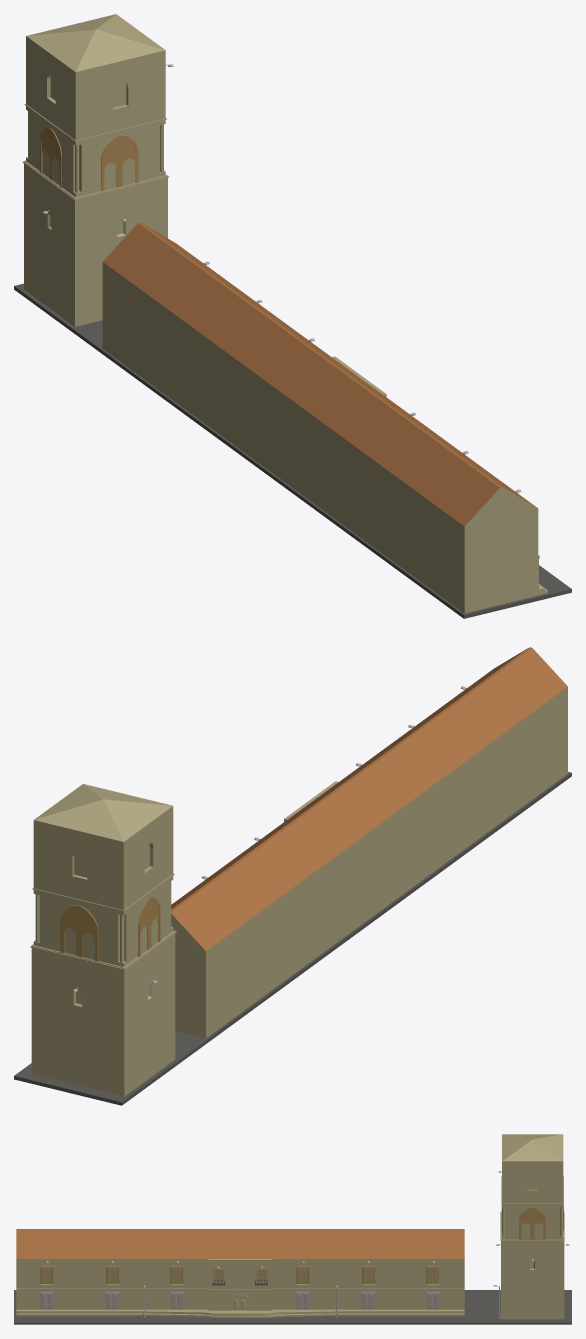
Rendered from place_noto_et_la_torre_de_san_nicolas_2.fbx.
3 views of the same model, one above another, from view 1: azimuth 30°, elevation 25°; view 2: azimuth 150°, elevation 25°; view 3: azimuth 270°, elevation 25° (orthographic). The views are drawn at different scales.
Parts seen in each view (by area): view 1: maison, Box015, sol, Cylinder010, Cylinder012; view 2: maison, Box015, sol, Cylinder011, Cylinder012; view 3: maison, Box015, sol, Cylinder009, Box008, Box010, Box011, Box013, Box002, Box003, Box004, Box005 (+4 smaller).
Boxes of the visible parts, bbox=[...] form: maison: bbox=[102, 222, 547, 613]; Box015: bbox=[22, 14, 169, 326]; sol: bbox=[14, 283, 571, 618]; Cylinder010: bbox=[101, 135, 138, 191]; Cylinder012: bbox=[39, 127, 61, 187]; maison: bbox=[171, 647, 567, 1038]; Box015: bbox=[30, 784, 176, 1096]; sol: bbox=[14, 772, 571, 1105]; Cylinder011: bbox=[60, 905, 98, 961]; Cylinder012: bbox=[138, 896, 160, 956]; maison: bbox=[16, 1229, 464, 1317]; Box015: bbox=[500, 1134, 564, 1319]; sol: bbox=[14, 1290, 571, 1324]; Cylinder009: bbox=[519, 1207, 545, 1239]; Box008: bbox=[426, 1266, 439, 1285]; Box010: bbox=[296, 1266, 309, 1285]; Box011: bbox=[40, 1266, 53, 1285]; Box013: bbox=[170, 1266, 183, 1285]; Box002: bbox=[40, 1292, 54, 1309]; Box003: bbox=[105, 1292, 119, 1309]; Box004: bbox=[170, 1292, 184, 1309]; Box005: bbox=[426, 1292, 440, 1309].
Bounding box in the file's own units: 264 × 614 × 1851.
